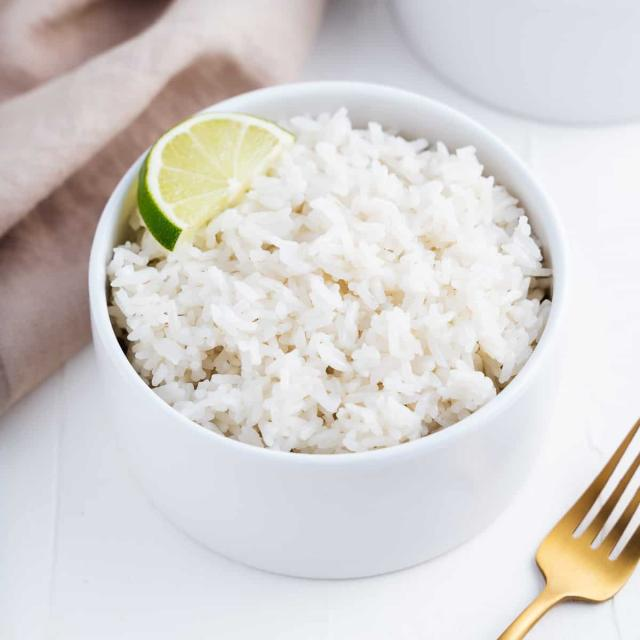Wet Waste: (108, 86, 551, 464)
